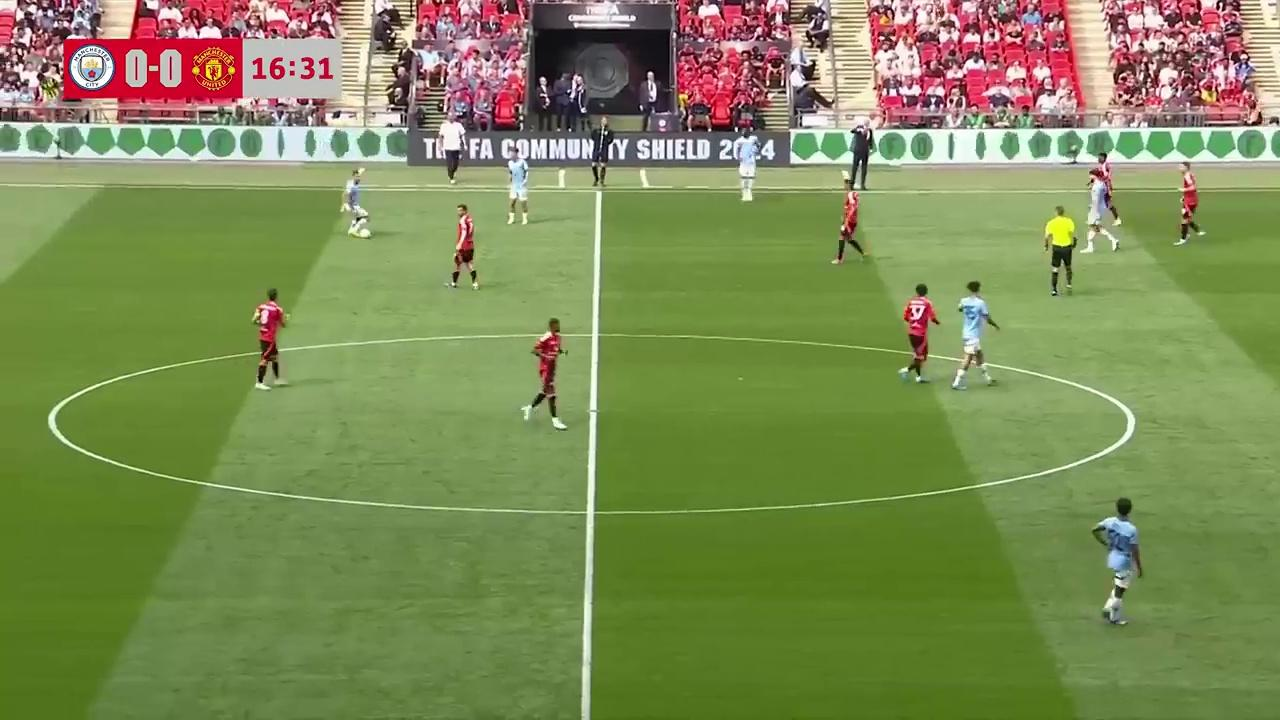ball: (360, 224, 371, 239)
player: (1091, 497, 1143, 625), (519, 317, 568, 430), (951, 279, 997, 390), (902, 284, 940, 383), (252, 287, 288, 388), (1084, 169, 1120, 252), (1087, 155, 1121, 242), (831, 183, 867, 265), (448, 203, 480, 290), (1175, 166, 1204, 245), (341, 169, 370, 237), (505, 155, 530, 226), (736, 136, 759, 201)
referee: (1042, 204, 1078, 297)
